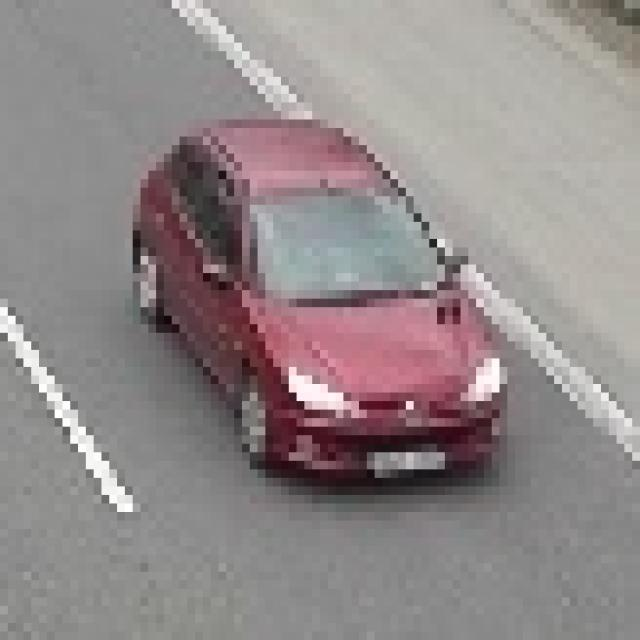maroon: (135, 119, 506, 485)
